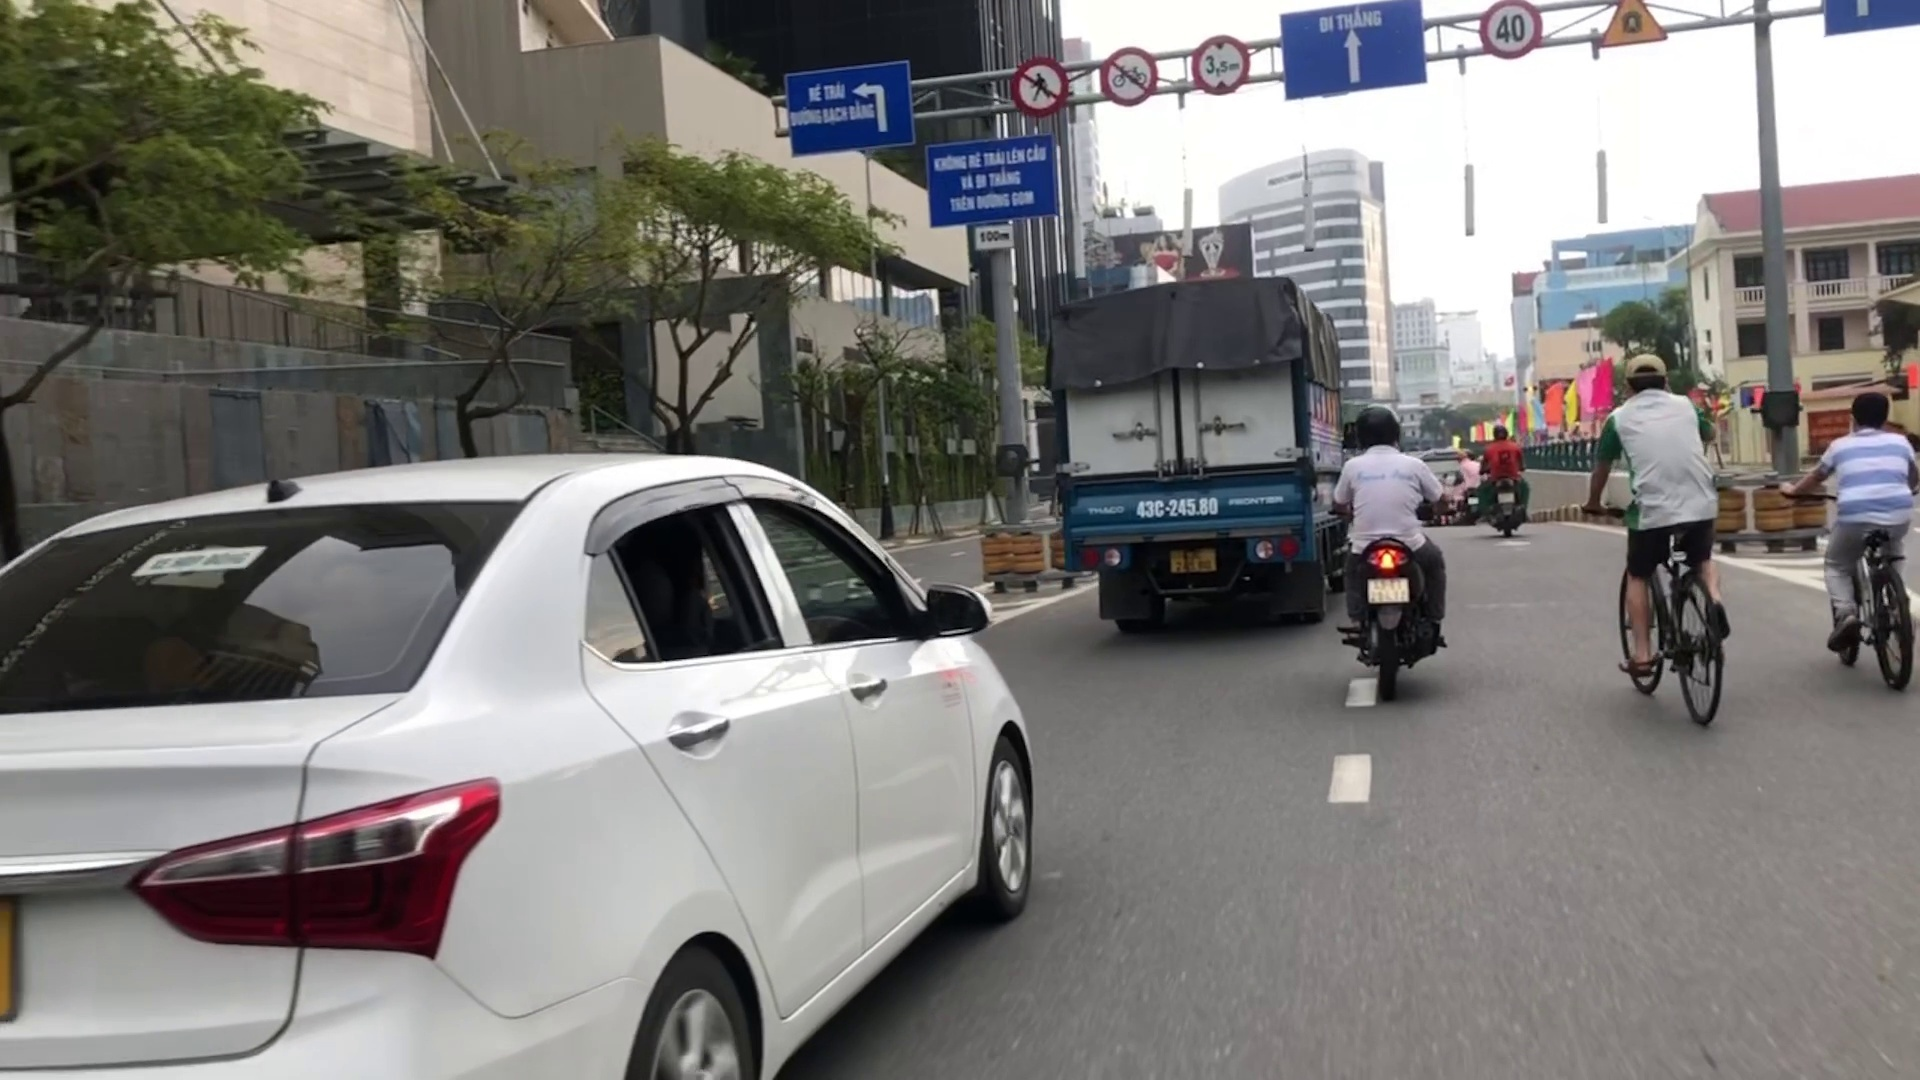Bien khac: (1477, 1, 1549, 57)
